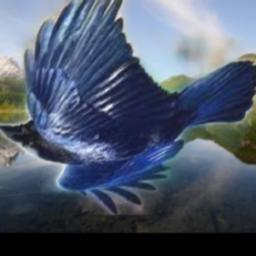Crow: (0, 0, 256, 215)
